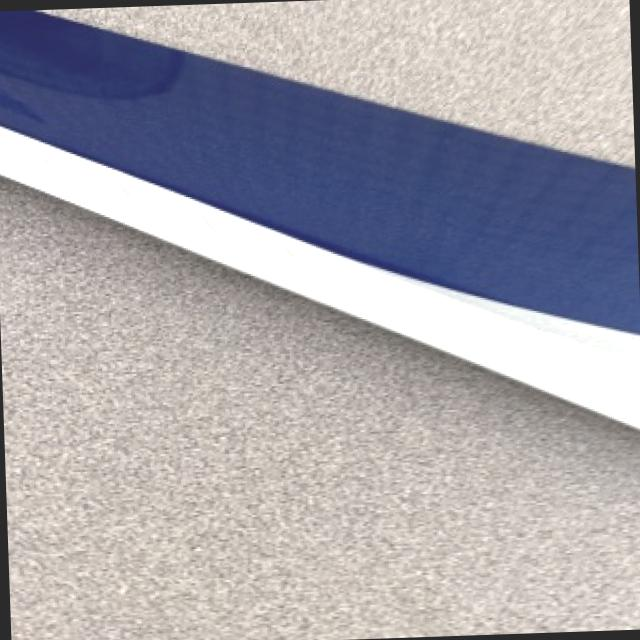healthy: (0, 10, 640, 423)
